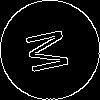M: (25, 25, 79, 76)
